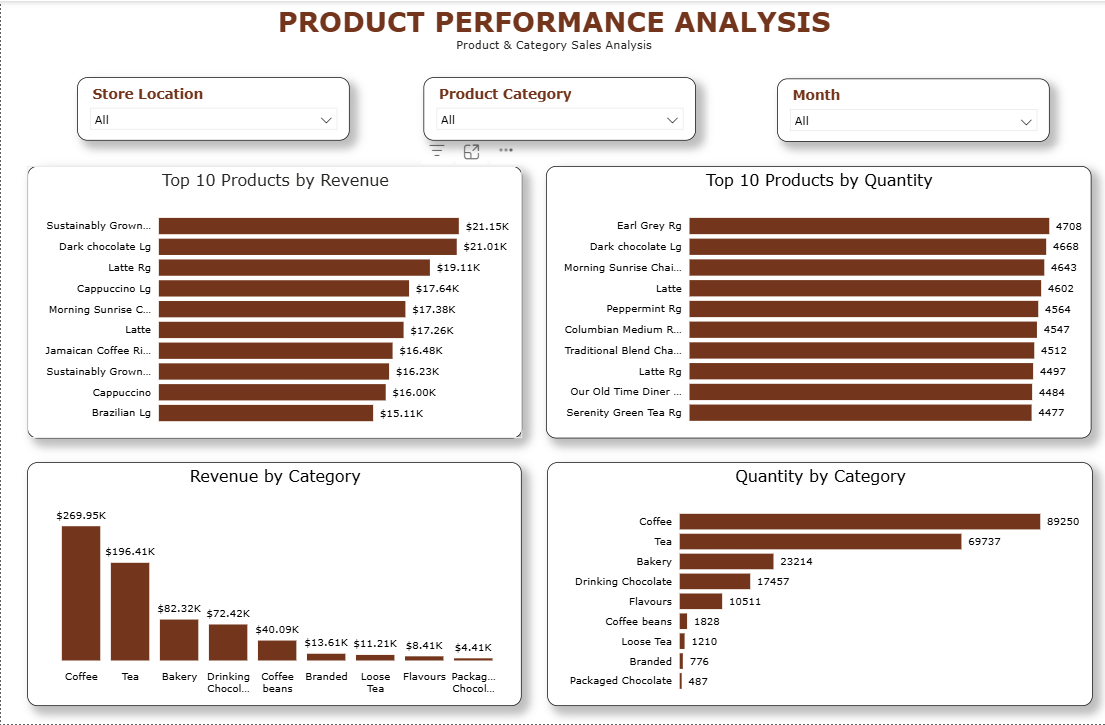

This screenshot's page, from the dashboard's own definition file:
{"tool":"powerbi","page":{"name":"Product & Category Sales Performance","canvas":[1300,850],"ordinal":1},"visuals":[{"type":"clusteredBarChart","title":"Top 10 Products by Revenue","fields":{"Category":["Coffee_Shop_Sales.product_detail"],"Y":["Measures (3).Total Revenue"]},"box":[30.8,193.9,581.6,320.1],"z":0},{"type":"clusteredBarChart","title":"Top 10 Products by Quantity","fields":{"Y":["Measures (3).Total Items Sold"],"Category":["Coffee_Shop_Sales.product_detail"]},"box":[640.3,193.9,640.6,319.7],"z":1000},{"type":"clusteredColumnChart","title":"Revenue by Category","fields":{"Category":["Coffee_Shop_Sales.product_category"],"Y":["Measures (3).Total Revenue"]},"box":[30.8,541.9,580.9,286.1],"z":2000},{"type":"clusteredBarChart","title":"Quantity by Category","fields":{"Y":["Measures (3).Total Items Sold"],"Category":["Coffee_Shop_Sales.product_category"]},"box":[641.8,541.9,640.6,286.1],"z":3000},{"type":"slicer","fields":{"Values":["Coffee_Shop_Sales.store_location"]},"box":[89.6,89.6,320,74.6],"z":4000},{"type":"textbox","box":[0,0,1299.7,72],"z":5000},{"type":"slicer","fields":{"Values":["DateTable.Month"]},"box":[912,91.1,320,74.6],"z":6000},{"type":"slicer","fields":{"Values":["Coffee_Shop_Sales.product_category"]},"box":[497.1,89.6,320,74.6],"z":7000}]}

Visuals, with their boxes in screenshot pixels (x1, y1, x2, y2), scaled from the page's 1300x850 canvas onto the 1105x725 screenshot:
"Top 10 Products by Revenue" clusteredBarChart: (x1=26, y1=165, x2=521, y2=438)
"Top 10 Products by Quantity" clusteredBarChart: (x1=544, y1=165, x2=1089, y2=438)
"Revenue by Category" clusteredColumnChart: (x1=26, y1=462, x2=520, y2=706)
"Quantity by Category" clusteredBarChart: (x1=546, y1=462, x2=1090, y2=706)
slicer - Coffee_Shop_Sales.store_location: (x1=76, y1=76, x2=348, y2=140)
textbox: (x1=0, y1=0, x2=1104, y2=61)
slicer - DateTable.Month: (x1=775, y1=78, x2=1047, y2=141)
slicer - Coffee_Shop_Sales.product_category: (x1=423, y1=76, x2=695, y2=140)
